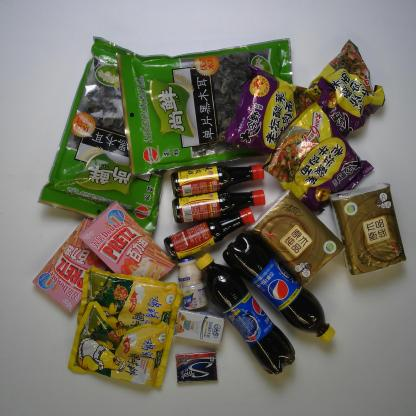Dessert: (80, 201, 176, 295), (32, 213, 116, 313)
Dried Food: (38, 34, 173, 240), (114, 37, 301, 176)
Drink: (222, 229, 335, 343), (192, 253, 296, 375)
Gum: (174, 348, 216, 384)
Instant Noodles: (263, 100, 372, 212), (296, 38, 388, 138), (228, 62, 320, 155)
Milk: (168, 304, 226, 343), (176, 254, 206, 309)
Seasoner: (69, 301, 176, 389), (75, 264, 183, 346), (165, 209, 259, 264), (170, 160, 266, 196), (168, 191, 268, 223)
Tissue: (249, 188, 344, 282), (329, 181, 407, 276)
